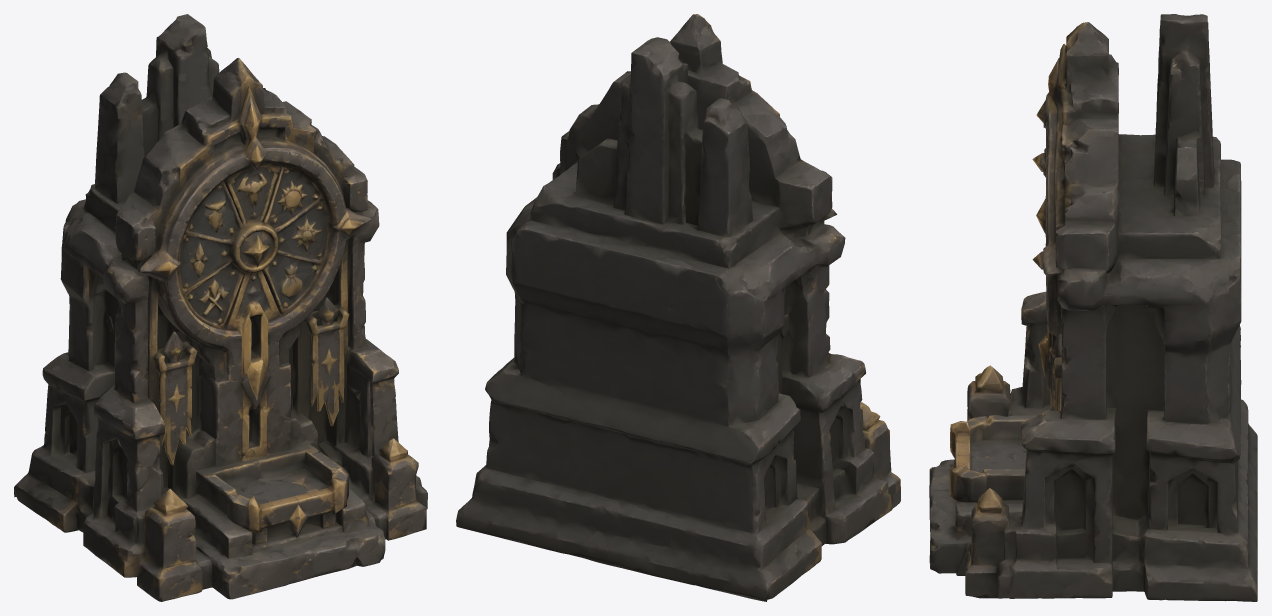
Rendered from shrine_fortune.glb.
The picture shows the model from 3 angles, left to right: view 1: azimuth 30°, elevation 25°; view 2: azimuth 150°, elevation 25°; view 3: azimuth 270°, elevation 25°; orthographic projection. The views are drawn at different scales.
Parts seen in each view (by area): view 1: tripo_node_3e3462c1-cc7c-462c-b67f-848e4fd5e532; view 2: tripo_node_3e3462c1-cc7c-462c-b67f-848e4fd5e532; view 3: tripo_node_3e3462c1-cc7c-462c-b67f-848e4fd5e532.
Part boxes in pixels (x1=…): tripo_node_3e3462c1-cc7c-462c-b67f-848e4fd5e532: x1=14, y1=14, x2=427, y2=601; tripo_node_3e3462c1-cc7c-462c-b67f-848e4fd5e532: x1=456, y1=14, x2=900, y2=601; tripo_node_3e3462c1-cc7c-462c-b67f-848e4fd5e532: x1=929, y1=14, x2=1257, y2=601.
Size of the model in its own units: 0.6663 by 1 by 0.5789.
1 material, 1 textured.
